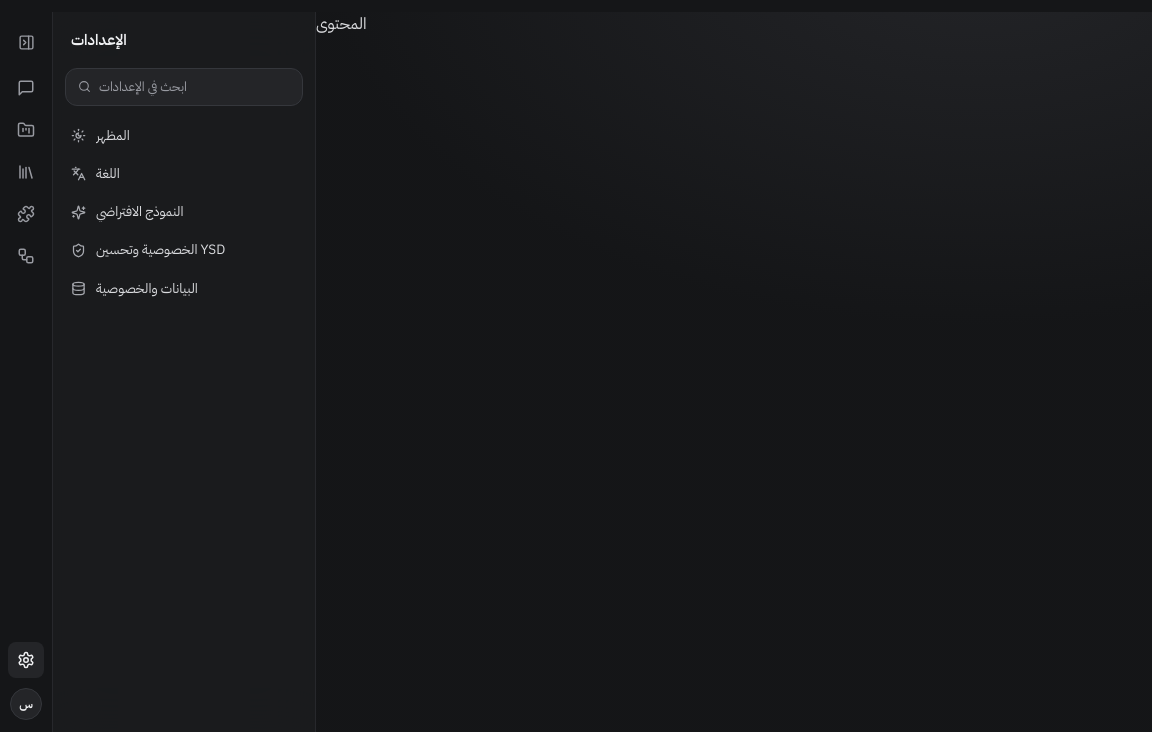
اللوحة تتبع الوحدة › الإعدادات: بحثها وأقسامها بدل المحادثات، والبحث يرشّح الأقسام
Expected: the buttons read "المظهر", "اللغة", "النموذج الافتراضي", "الخصوصية وتحسين YSD", "البيانات والخصوصية", in this order, [61,118,307,154]; [61,156,307,192]; [61,194,307,230]; [61,232,307,269]; [61,270,307,307]
In the search field labelled "ابحث في الإعدادات": (194, 87) [99,77,290,96], type "سطوع"
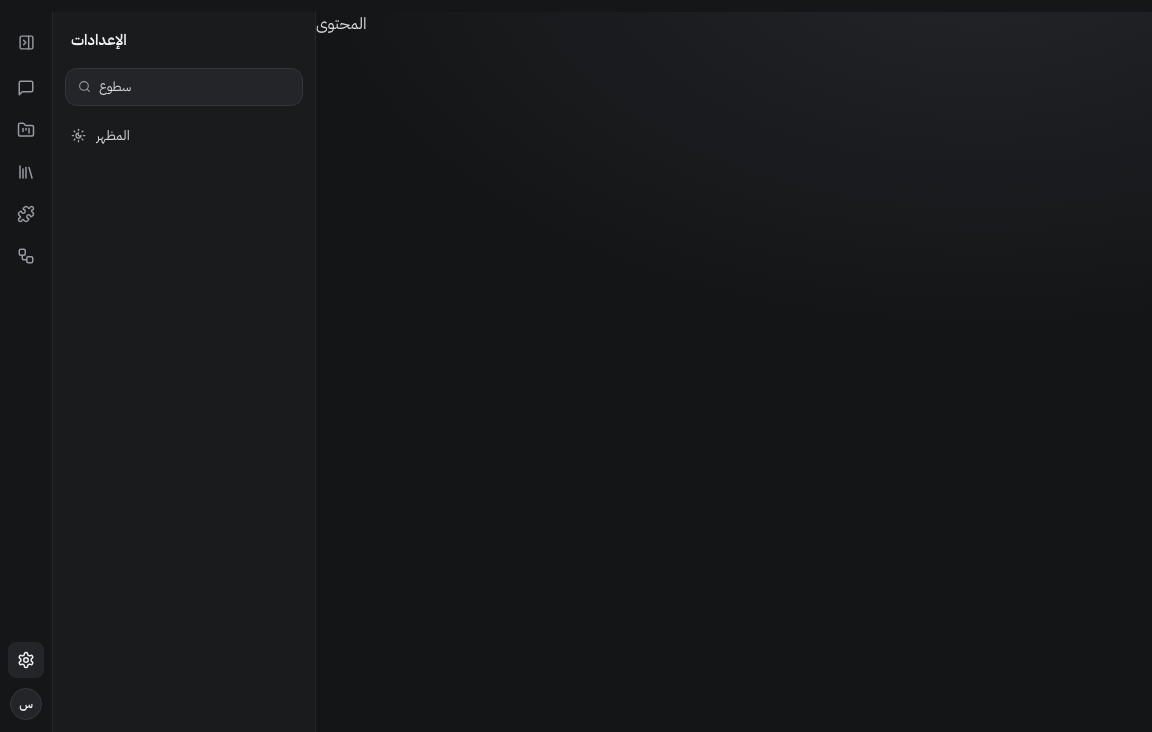
Expected: the buttons read "المظهر", in this order, [61,118,307,154]
